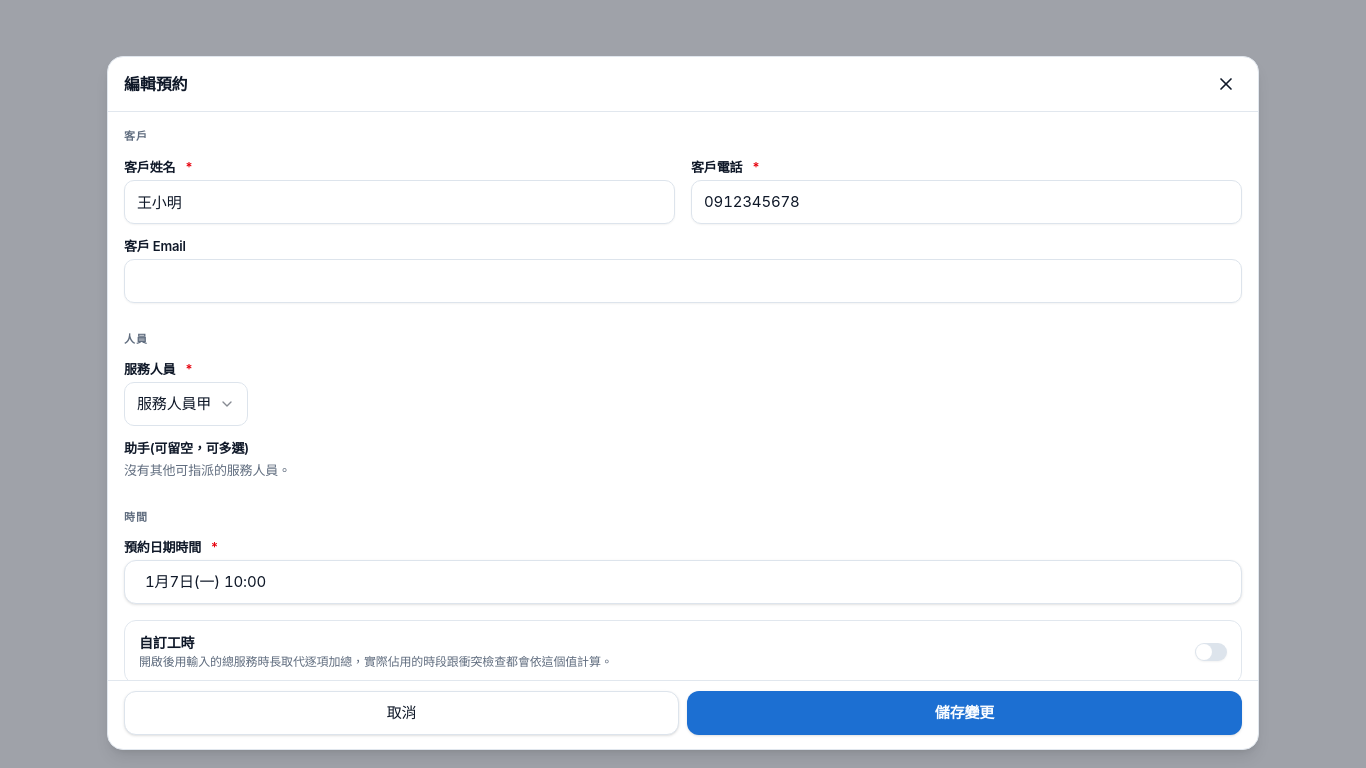
Test: 建單表單 × 填過資料才問放棄(第 11 批 J) › 編輯:資料載入後不改 ⇒ Esc 直接關;改一個字 ⇒ Esc 先問
This screenshot has width=1366, height=768.
Expected: the field with id "booking-customer-name" holds "王小明", [124,180,675,224]
Press Escape in the dialog
Replace the text in the field with id "booking-customer-name" with "王小明2": x=400, y=202 [124,180,675,224]
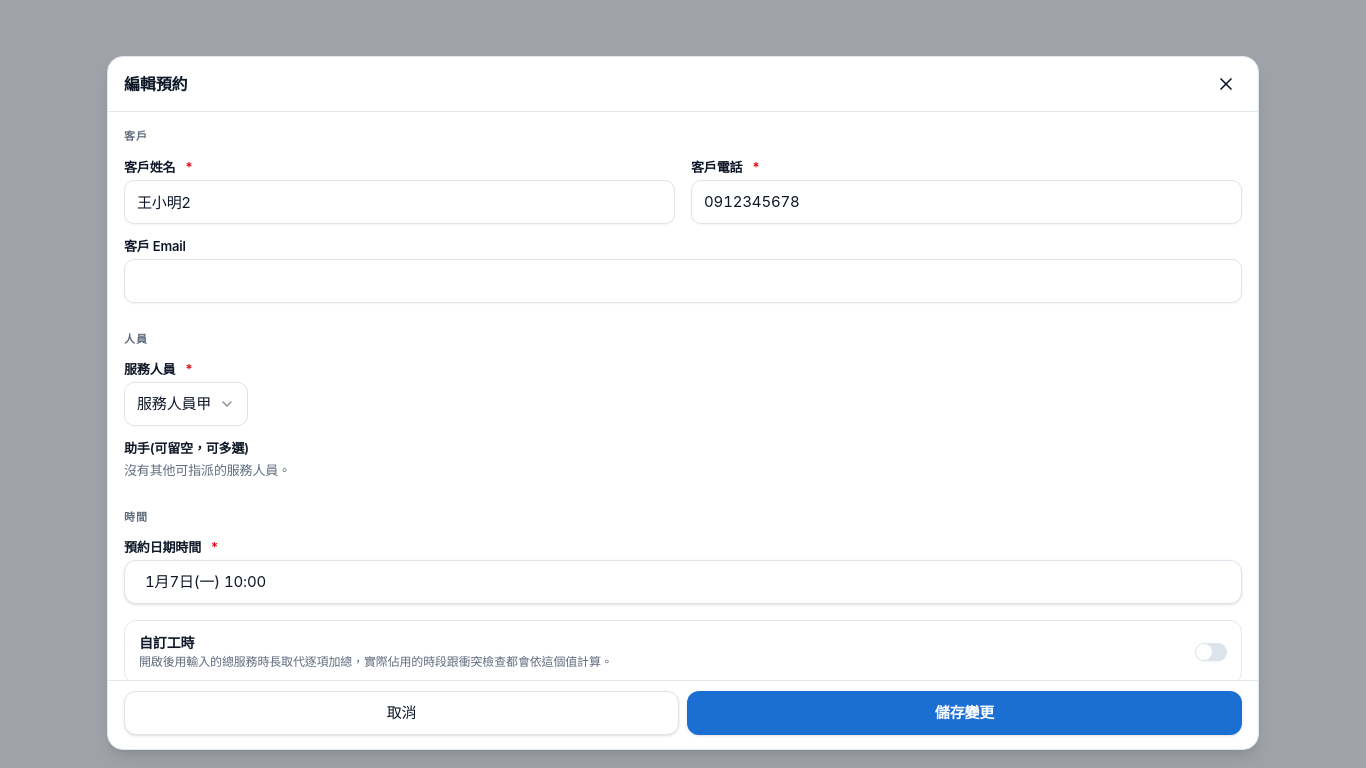
Press Escape in the dialog
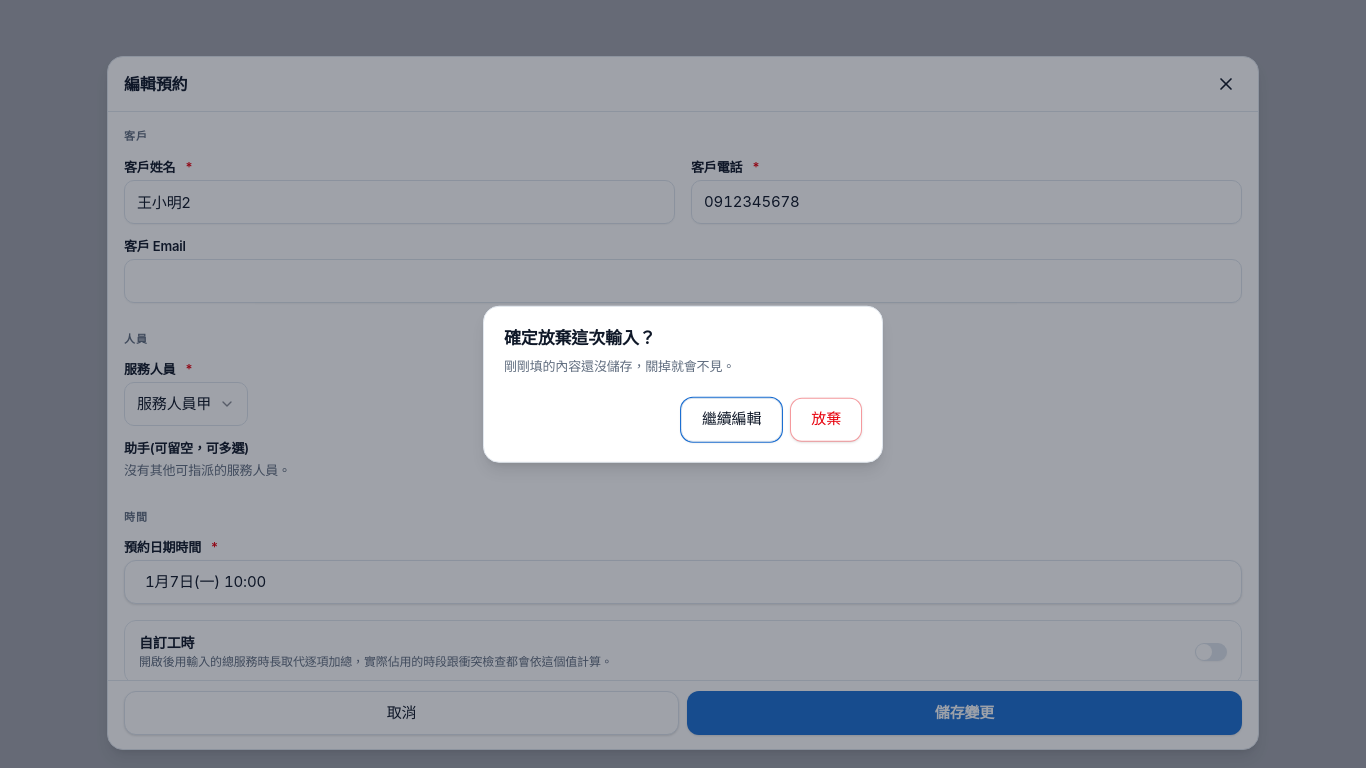
Expected: the heading "確定放棄這次輸入？" is shown, [504,328,656,348]
